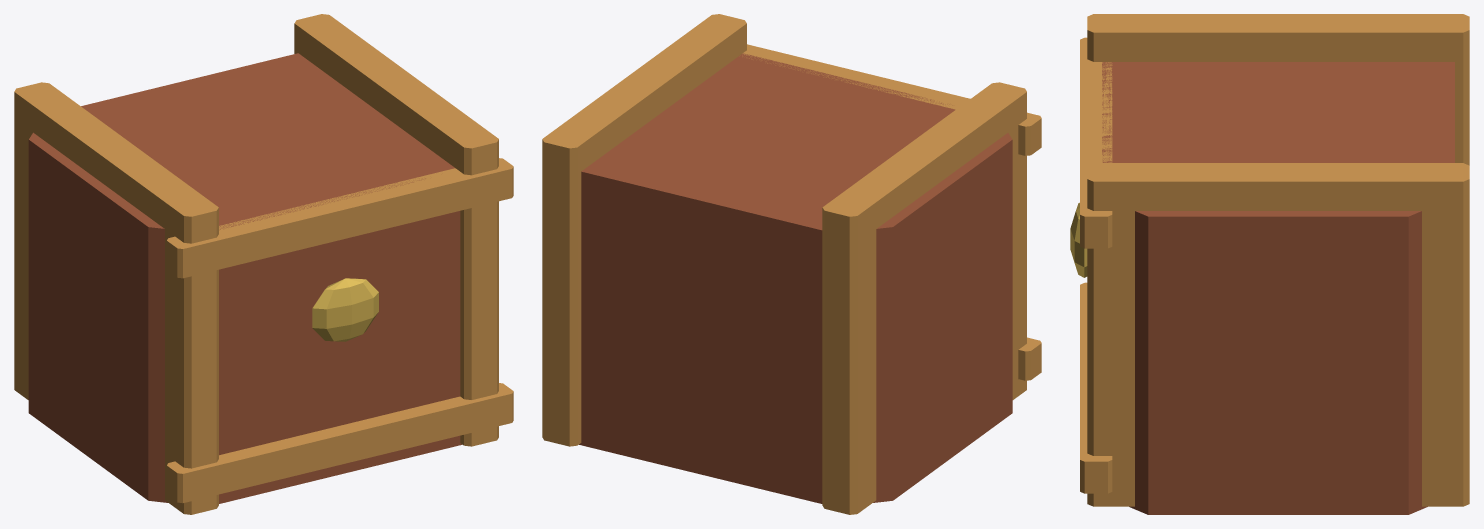
The model's file is Luggage.fbx.
The picture shows the model from 3 angles, left to right: view 1: azimuth 30°, elevation 25°; view 2: azimuth 150°, elevation 25°; view 3: azimuth 270°, elevation 25°; orthographic projection. The views are drawn at different scales.
Visible parts, largest first — view 1: Luggage.005; view 2: Luggage.005; view 3: Luggage.005.
Part boxes in pixels (x1,y1,x2,y2): Luggage.005: [14, 14, 513, 514]; Luggage.005: [542, 14, 1041, 514]; Luggage.005: [1070, 14, 1469, 514].
Size of the model in its own units: 72 by 61.5 by 67.88.
